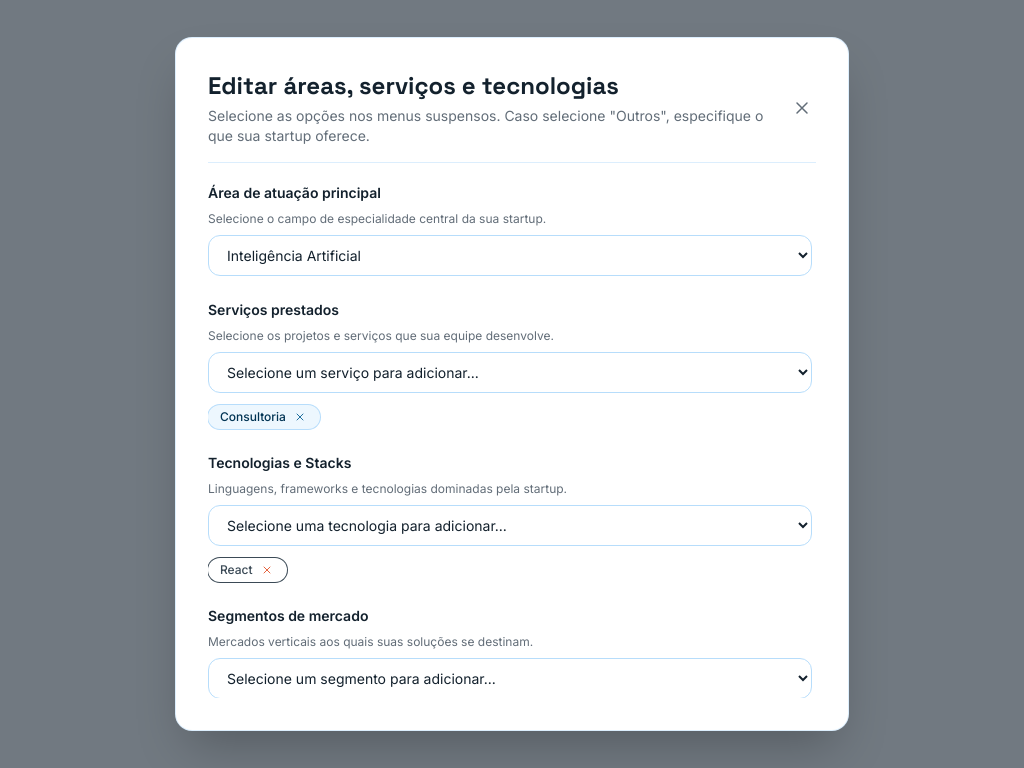
Scenario: ModalEditarTagsStartup › deve adicionar um serviço pelo dropdown e também adicionar um serviço personalizado quando Outros for selecionado
The width and height of the screenshot is (1024, 768).
// Adicionar Desenvolvimento Web do dropdown
Select "Desenvolvimento Web" in the dropdown labelled "Serviços prestados" at (510, 373), box [208, 352, 812, 393]
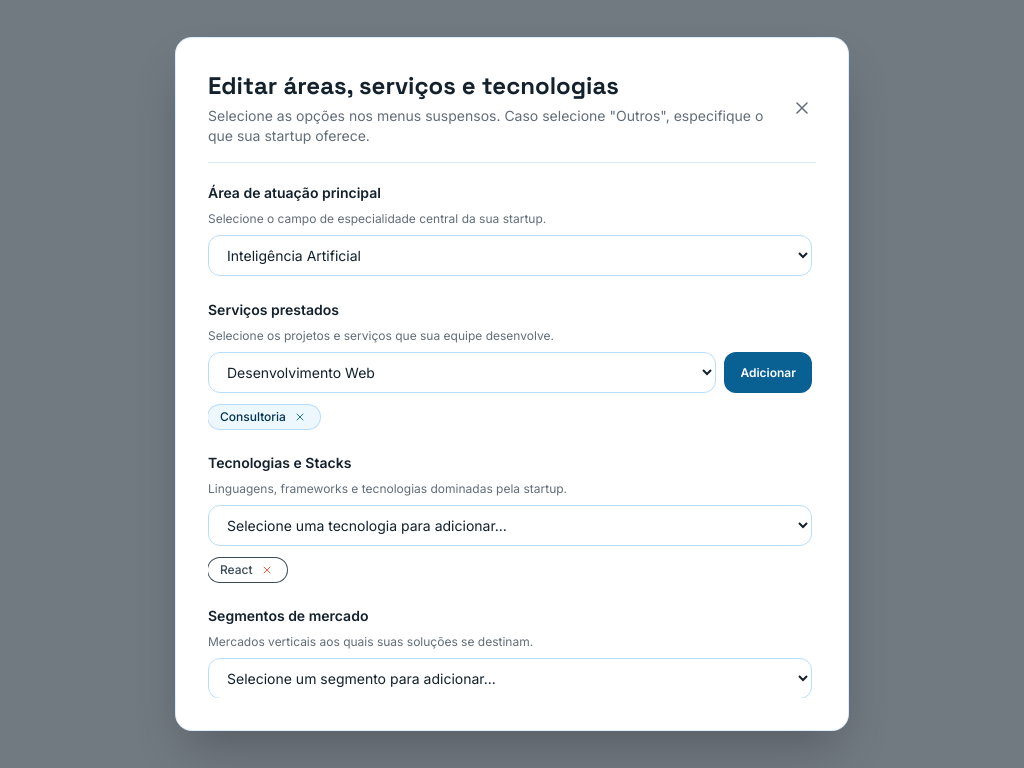
Click the button "Adicionar".
click(768, 373)  # box [724, 352, 812, 393]
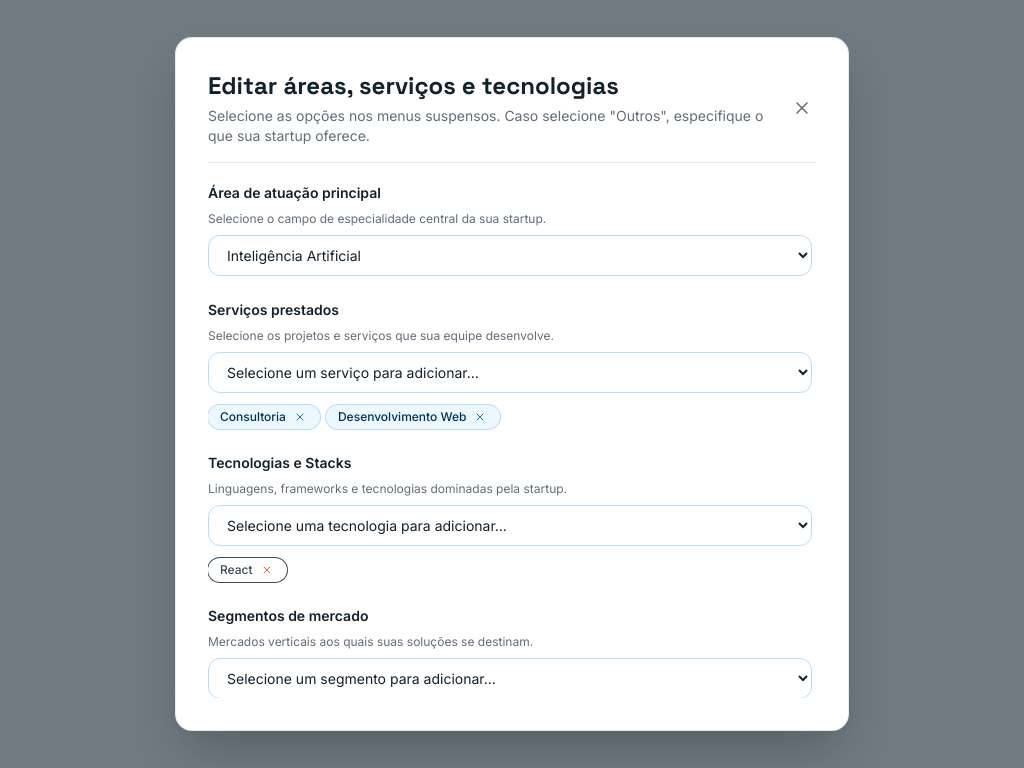
Expected: the text "Desenvolvimento Web" is shown, [338, 409, 466, 425]
// Selecionar Outros no dropdown
Select "Outros" in the dropdown labelled "Serviços prestados" at (510, 373), box [208, 352, 812, 393]
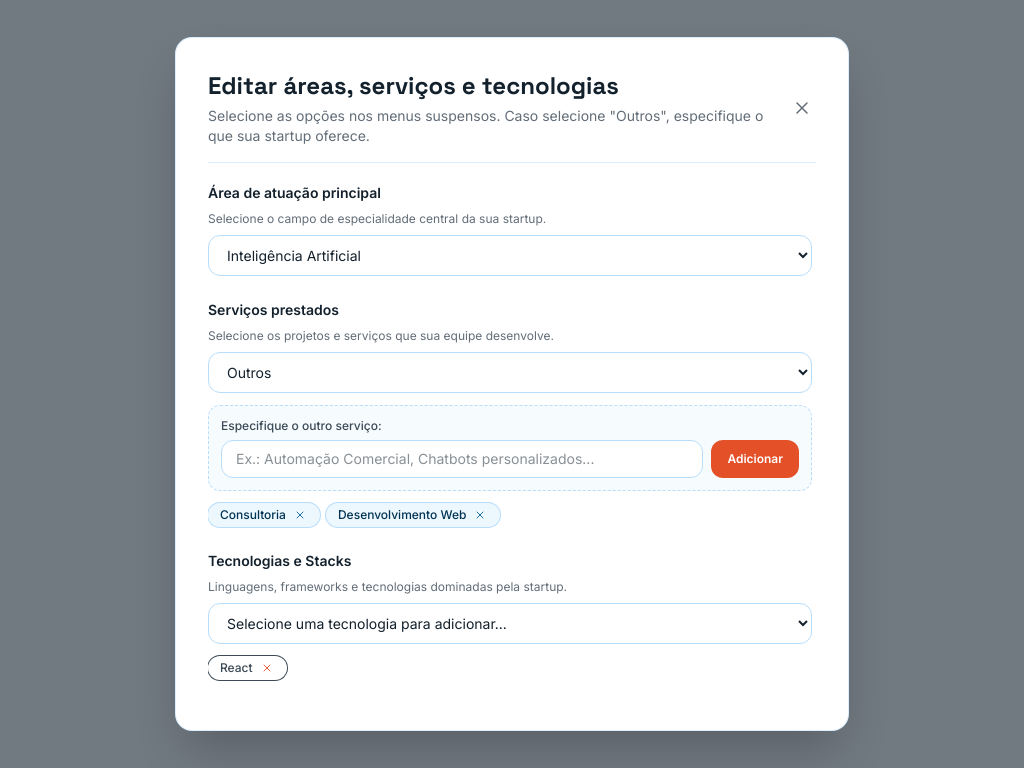
Expected: the field labelled "Especifique o outro serviço:" is shown
Type "Chatbot com LLM" into the field labelled "Especifique o outro serviço:".
click(462, 459); type("Chatbot com LLM")  # box [221, 440, 703, 478]
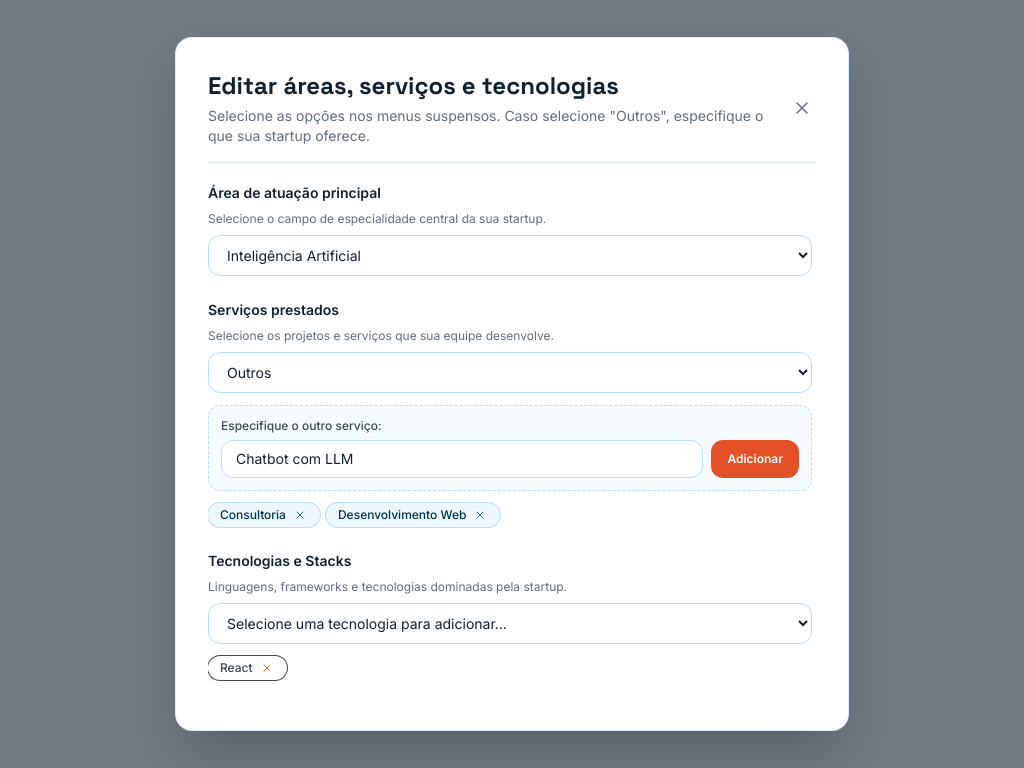
Click the button "Adicionar".
click(755, 459)  # box [711, 440, 799, 478]
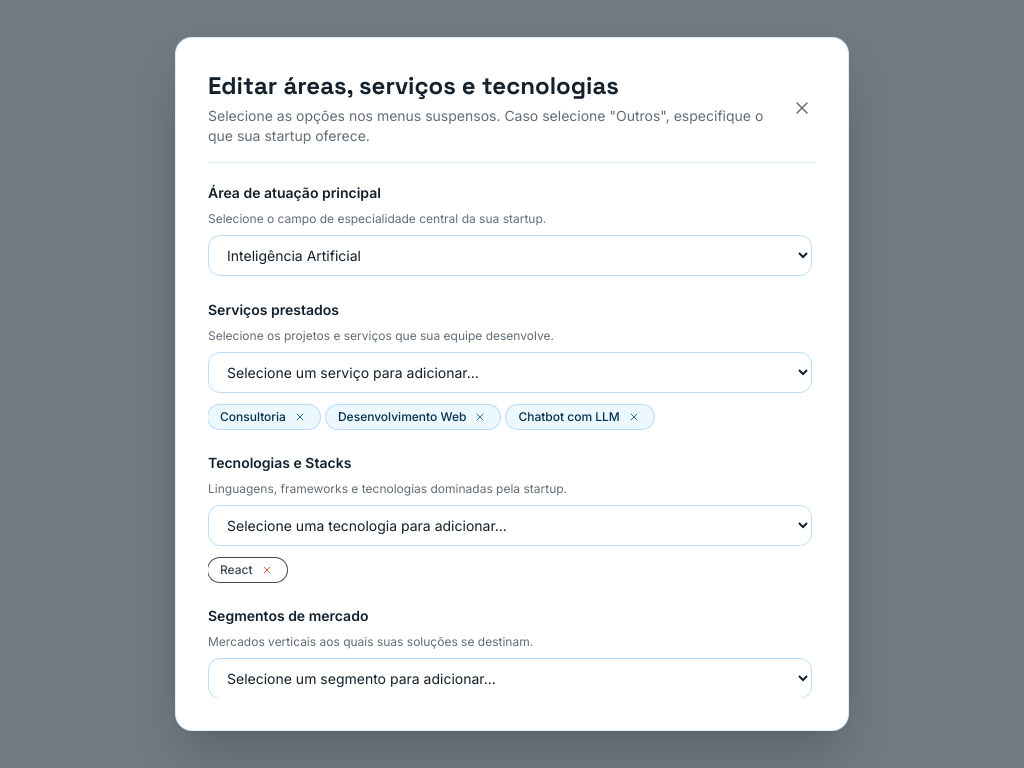
Expected: the text "Chatbot com LLM" is shown, [518, 409, 620, 425]
